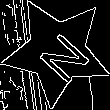N_NW: (25, 20, 89, 83)
